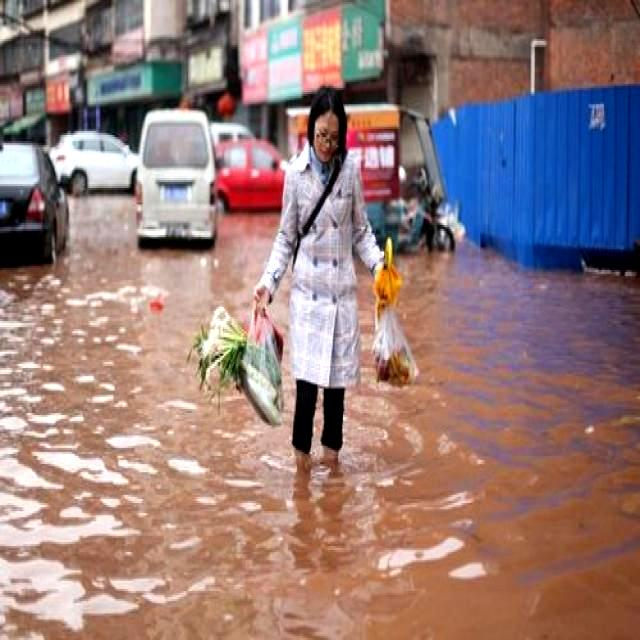civilian: (251, 66, 388, 479)
